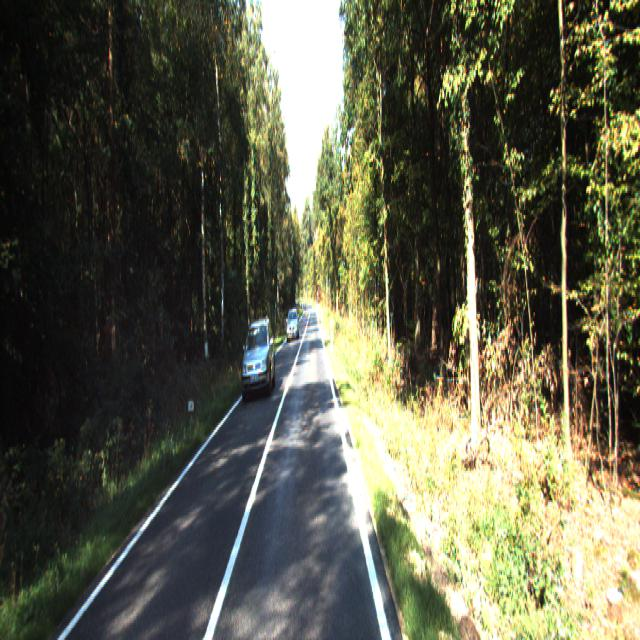Car: (238, 314, 277, 401), (286, 310, 300, 342)
